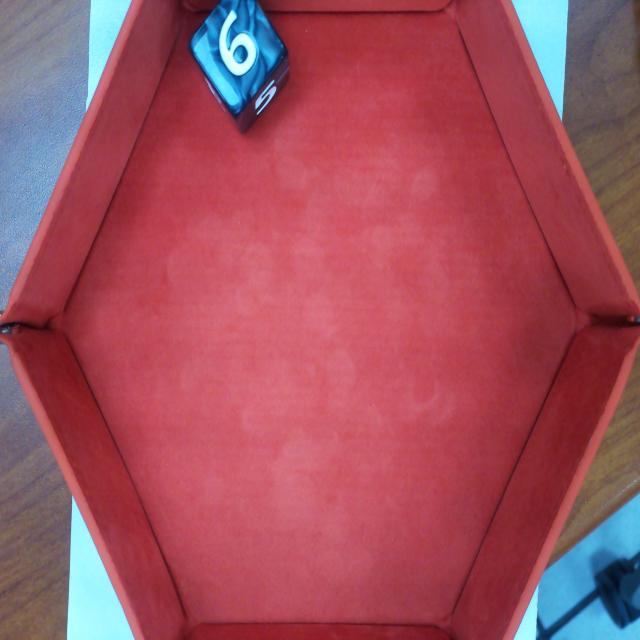dice: (190, 0, 287, 114)
